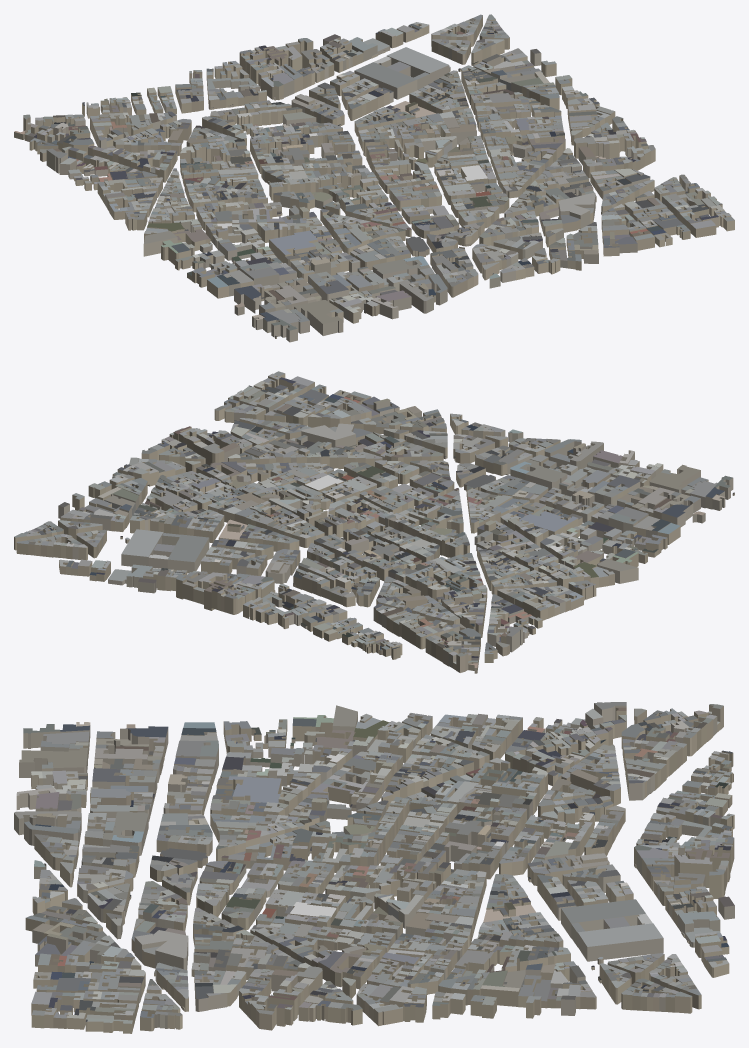
The picture shows the model from 3 angles, top to bottom: view 1: azimuth 30°, elevation 25°; view 2: azimuth 150°, elevation 25°; view 3: azimuth 270°, elevation 25°; orthographic projection. The views are drawn at different scales.
Parts seen in each view (by area): view 1: tuile; view 2: tuile; view 3: tuile.
Part boxes in pixels (x1=…): tuile: x1=14, y1=14, x2=734, y2=342; tuile: x1=14, y1=371, x2=734, y2=673; tuile: x1=14, y1=702, x2=734, y2=1033.
Size of the model in its own units: 1051 by 82.87 by 1032.
